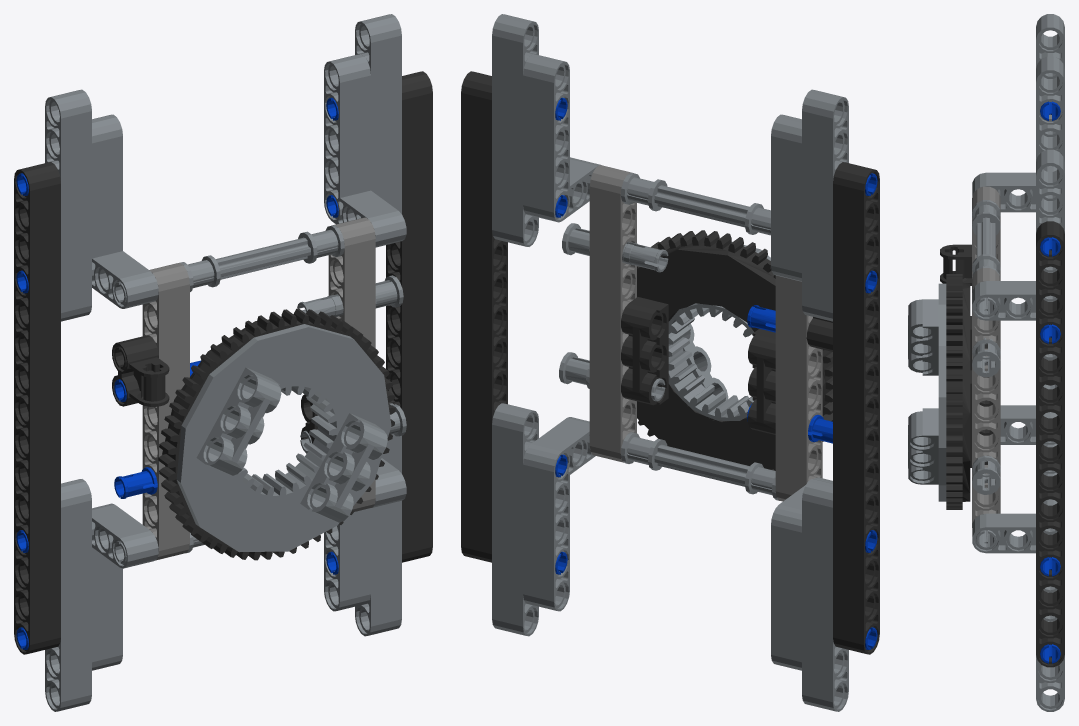
File: Chain2.fbx
The picture shows the model from 3 angles, left to right: view 1: azimuth 30°, elevation 25°; view 2: azimuth 150°, elevation 25°; view 3: azimuth 270°, elevation 25°; orthographic projection. The views are drawn at different scales.
Parts seen in each view (by area): view 1: Chain2; view 2: Chain2; view 3: Chain2.
Part boxes in pixels (x1,y1,x2,y2): Chain2: (14,14,432,711); Chain2: (461,14,879,711); Chain2: (908,14,1064,711).
Bounding box in the file's own units: 10.4 × 15.1 × 3.91.
